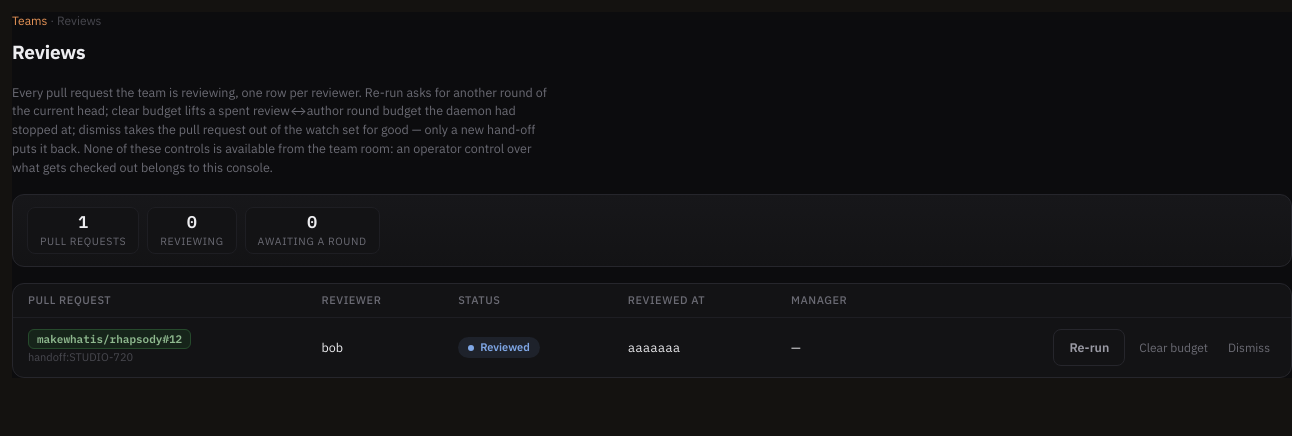
Test: the Reviews surface › confirms a dismissal landed, and how many rows it dropped
This screenshot has width=1292, height=436.
Click the button with aria-label "Dismiss makewhatis/rhapsody#12 from the watch set". click: (1249, 348)
box: top-left (1222, 331), bottom-right (1276, 365)
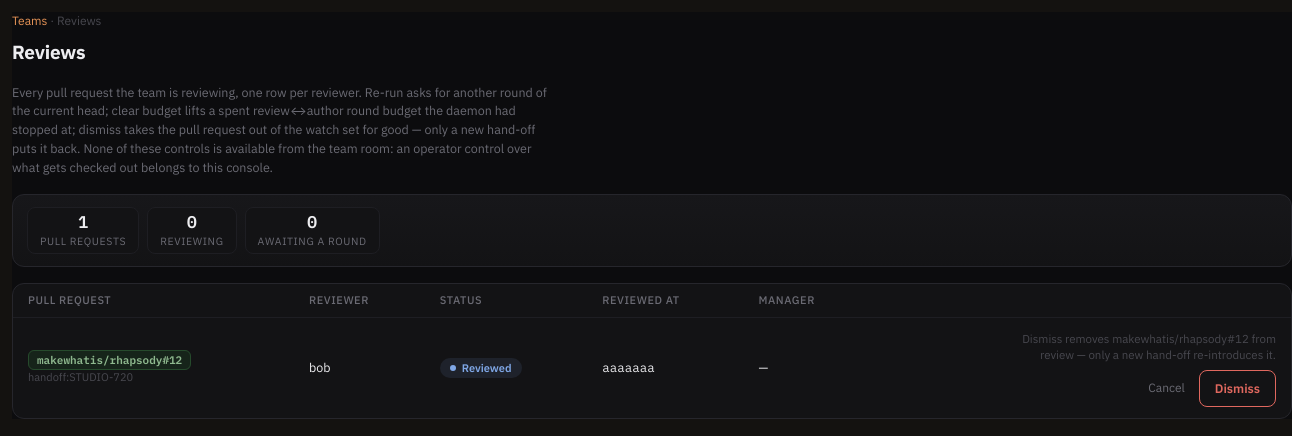
Click the button with aria-label "Confirm dismissing makewhatis/rhapsody#12". click: (1237, 388)
box: top-left (1199, 370), bottom-right (1276, 407)
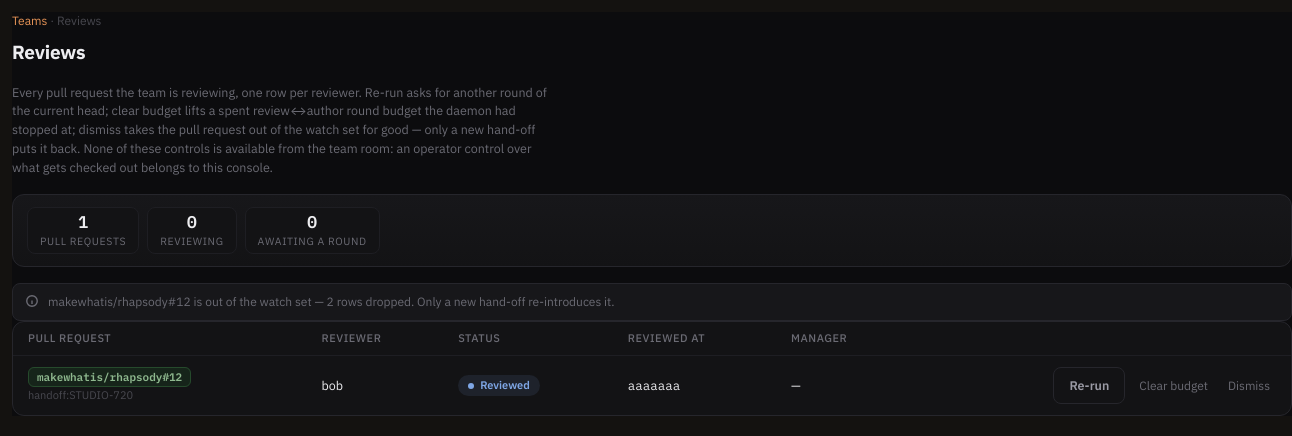
Expected: the message shows "out of the watch set", top-left (48, 294), bottom-right (615, 309)
Expected: the message shows "2 rows", top-left (48, 294), bottom-right (615, 309)
